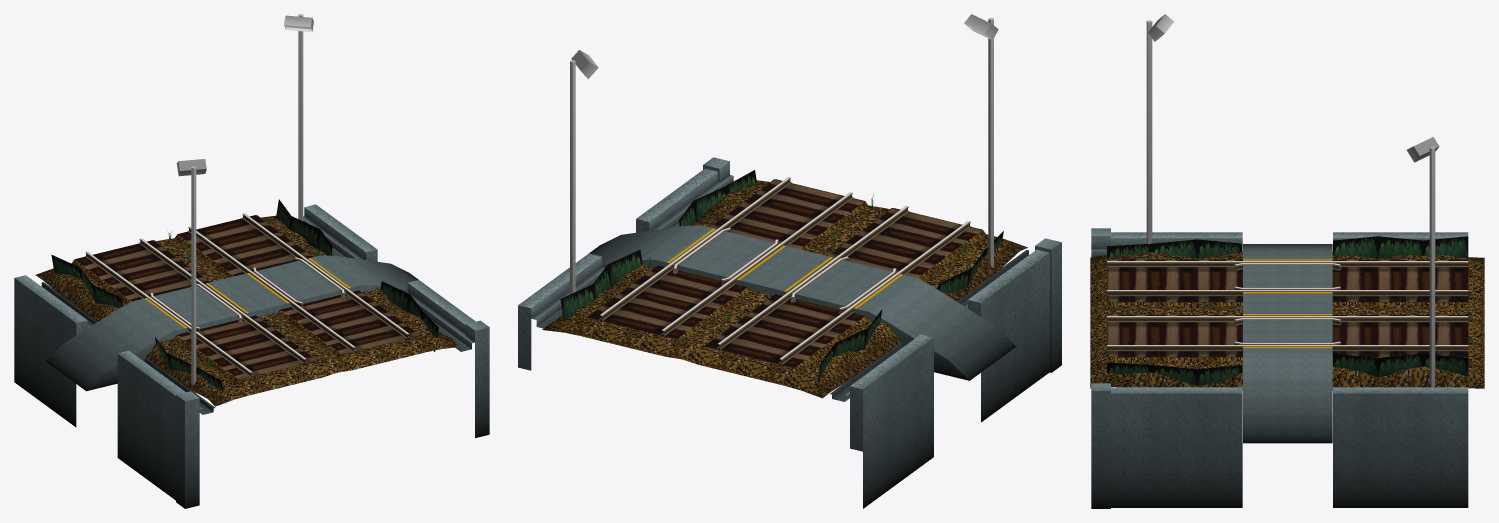
The model's file is K_HUMIKIRI25_0.glb.
The picture shows the model from 3 angles, left to right: view 1: azimuth 30°, elevation 25°; view 2: azimuth 150°, elevation 25°; view 3: azimuth 270°, elevation 25°; orthographic projection. The views are drawn at different scales.
Parts seen in each view (by area): view 1: rail, obj3, last, bone7, bone0; view 2: rail, obj3, last, bone7, bone0; view 3: rail, obj3, last, bone0, bone7.
Part boxes in pixels (x1,y1,x2,y2): rail: (14,199,475,500); obj3: (45,255,418,391); last: (176,320,489,508); bone7: (176,159,330,393); bone0: (169,14,313,238); rail: (518,168,1049,508); obj3: (589,225,1016,380); last: (703,157,1061,372); bone7: (869,14,998,267); bone0: (570,50,686,343); rail: (1090,232,1484,507); obj3: (1234,244,1341,443); last: (1091,228,1110,508); bone0: (1406,137,1439,387); bone7: (1114,14,1174,312).
Bounding box in the file's own units: 31.81 × 26.45 × 27.26.
Materials: 18 (18 with a texture image).
